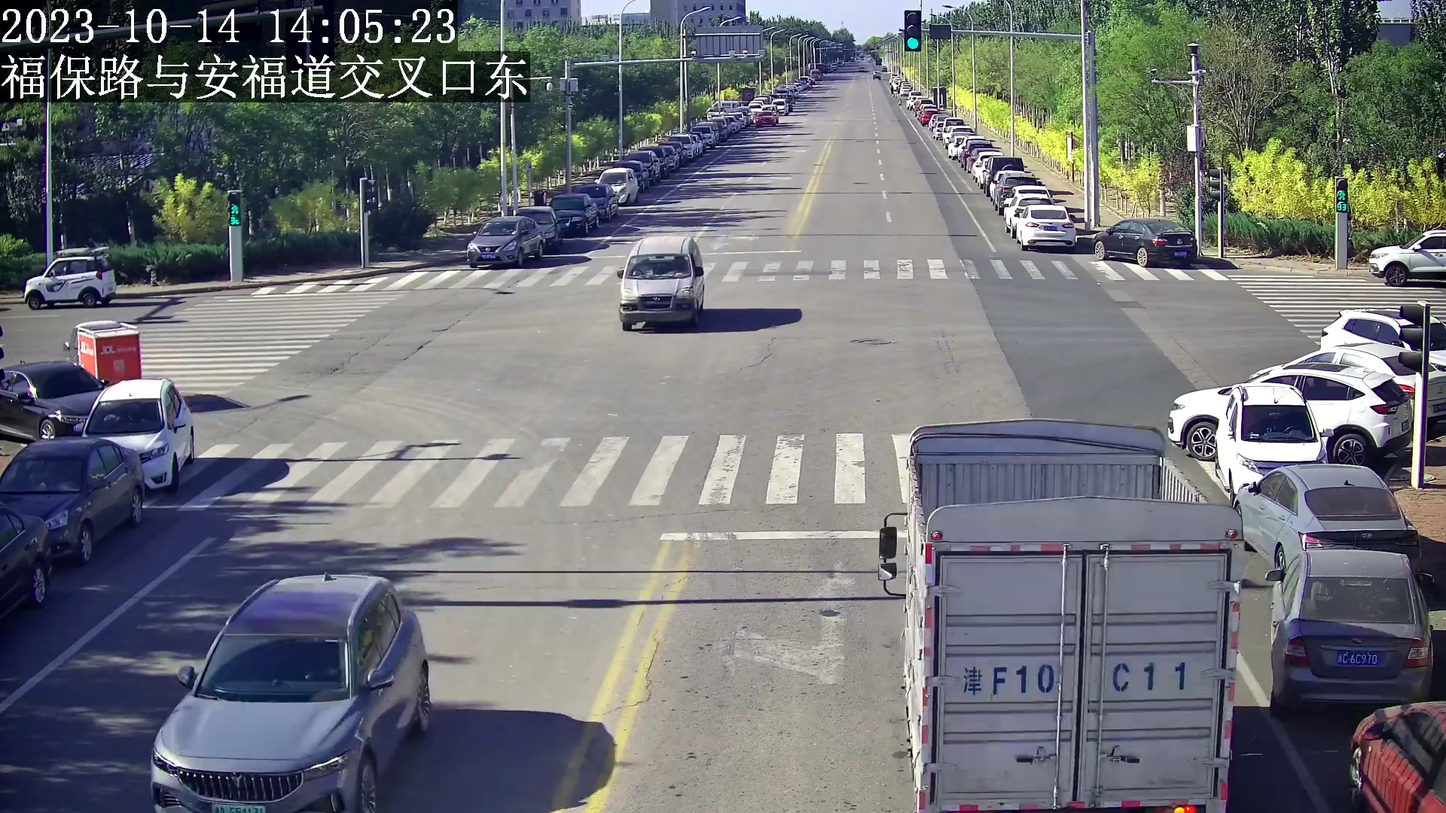vehicle: (874, 423, 1237, 809), (143, 571, 436, 811), (1263, 547, 1432, 705), (1170, 363, 1411, 465), (1234, 463, 1420, 565), (1, 436, 143, 562), (79, 376, 197, 487), (1217, 383, 1326, 492), (1344, 696, 1444, 811), (616, 234, 703, 331), (0, 357, 98, 440), (25, 245, 120, 309), (61, 318, 143, 391), (1094, 214, 1194, 267), (1367, 224, 1444, 284), (464, 212, 542, 269), (1017, 202, 1075, 251)
